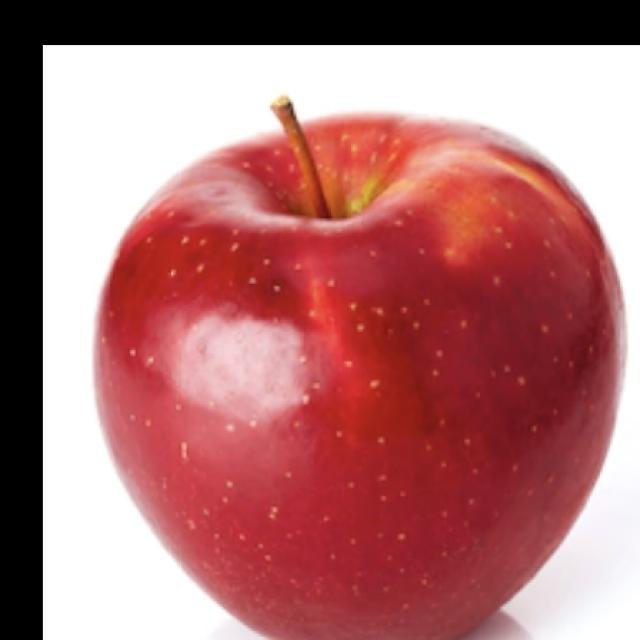Apple: (92, 94, 628, 639)
